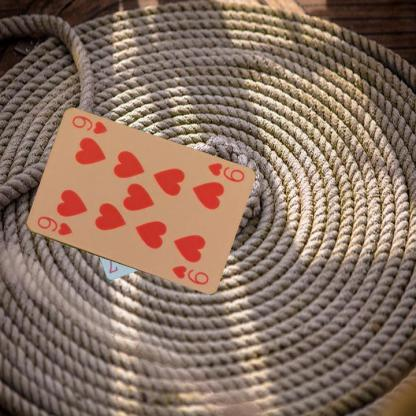9h: (204, 160, 246, 184), (34, 214, 73, 237)
